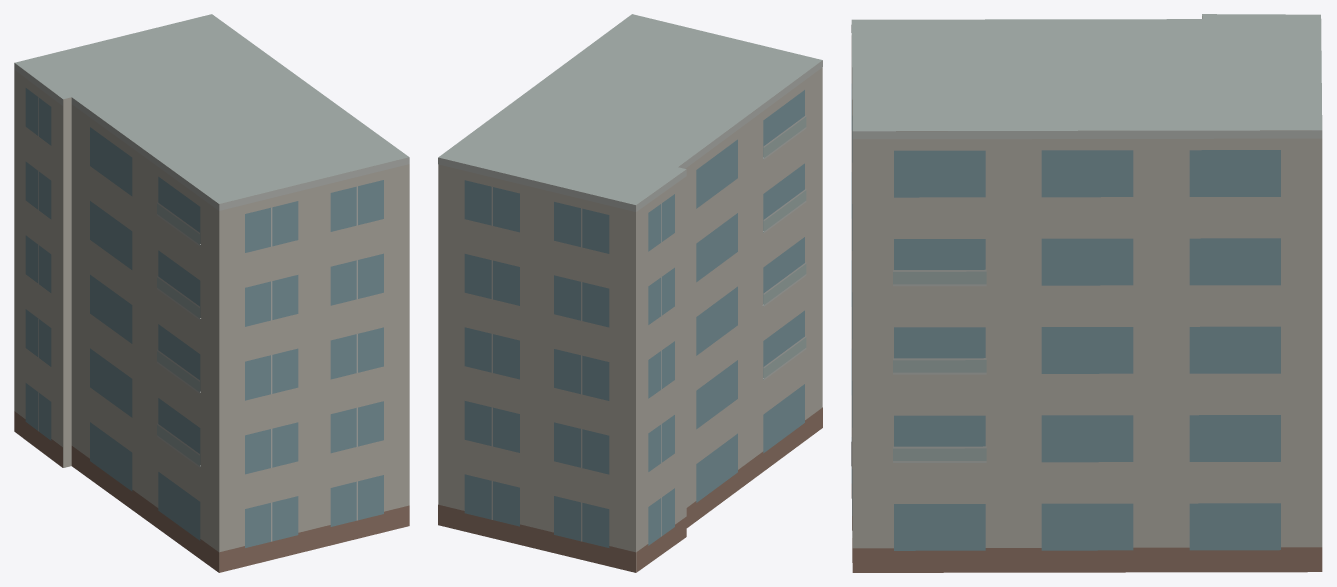
The model's file is survey-upis-32996220.glb.
3 views of the same model, side by side, from view 1: azimuth 30°, elevation 25°; view 2: azimuth 150°, elevation 25°; view 3: azimuth 270°, elevation 25° (orthographic). The views are drawn at different scales.
Parts seen in each view (by area): view 1: survey-upis-32996220.tmp; view 2: survey-upis-32996220.tmp; view 3: survey-upis-32996220.tmp.
Part boxes in pixels (x1=…): survey-upis-32996220.tmp: x1=14, y1=14, x2=409, y2=572; survey-upis-32996220.tmp: x1=438, y1=14, x2=822, y2=572; survey-upis-32996220.tmp: x1=851, y1=14, x2=1322, y2=572.
Bounding box in the file's own units: 7.44 × 13 × 12.57.
